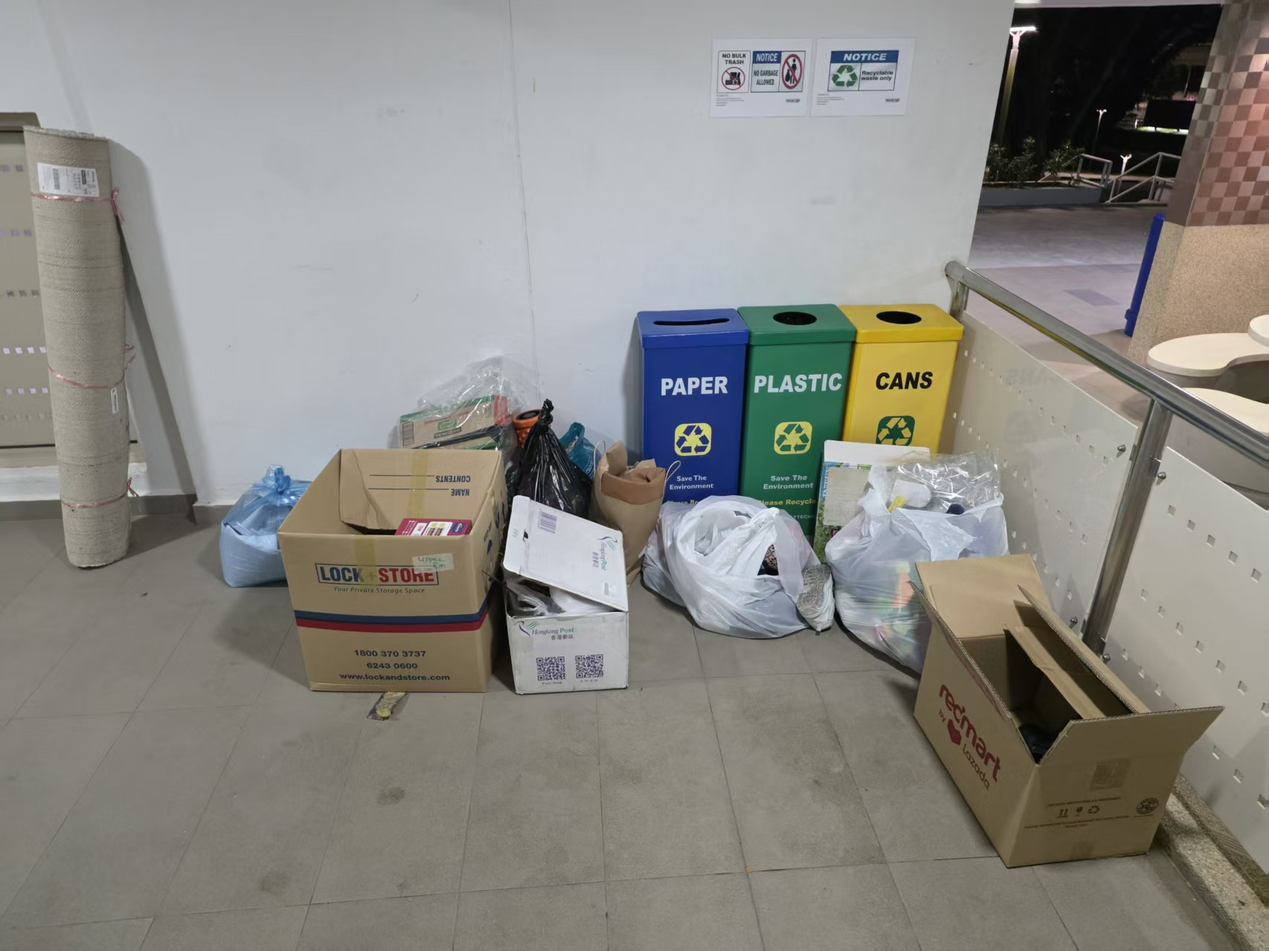bin_empty: (738, 303, 855, 538), (636, 309, 749, 501), (838, 304, 963, 453)
bulk_waste: (913, 555, 1223, 866), (278, 450, 508, 692), (503, 497, 628, 694)
normal_waste: (825, 451, 1008, 673), (643, 495, 831, 638), (396, 358, 528, 465), (813, 440, 928, 558), (219, 465, 310, 587), (591, 442, 666, 584), (515, 400, 588, 517)
